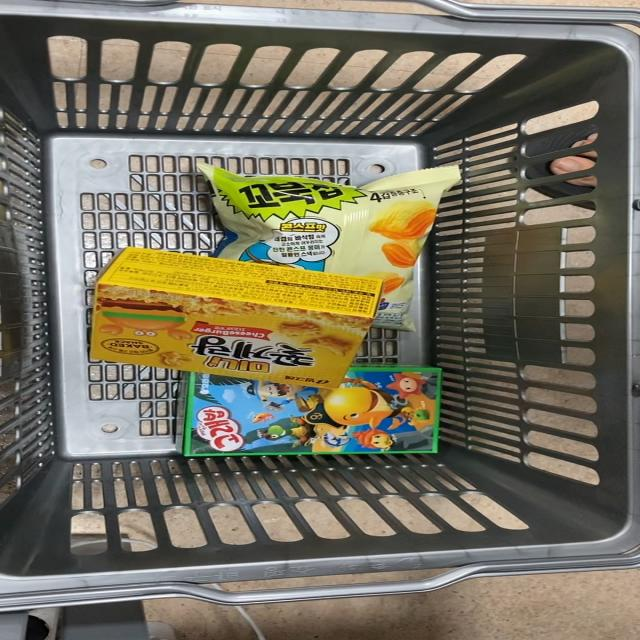ggobukchip: (206, 156, 470, 266)
goraebob: (164, 366, 489, 471)
minicrab: (75, 238, 383, 386)
